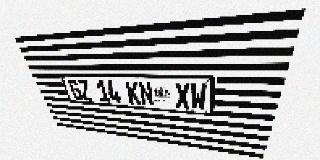1: (94, 80, 111, 102)
4: (105, 80, 122, 103)
G: (67, 79, 84, 100)
K: (125, 81, 141, 105)
N: (138, 81, 154, 106)
W: (190, 83, 207, 110)
X: (174, 83, 190, 109)
Z: (77, 80, 93, 101)
